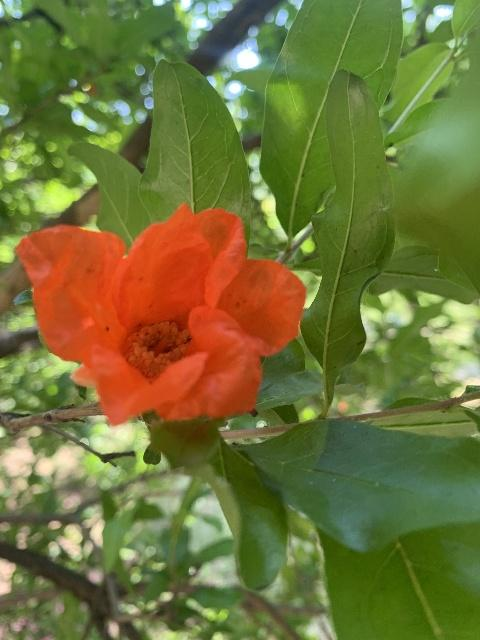flower: (13, 202, 306, 428)
